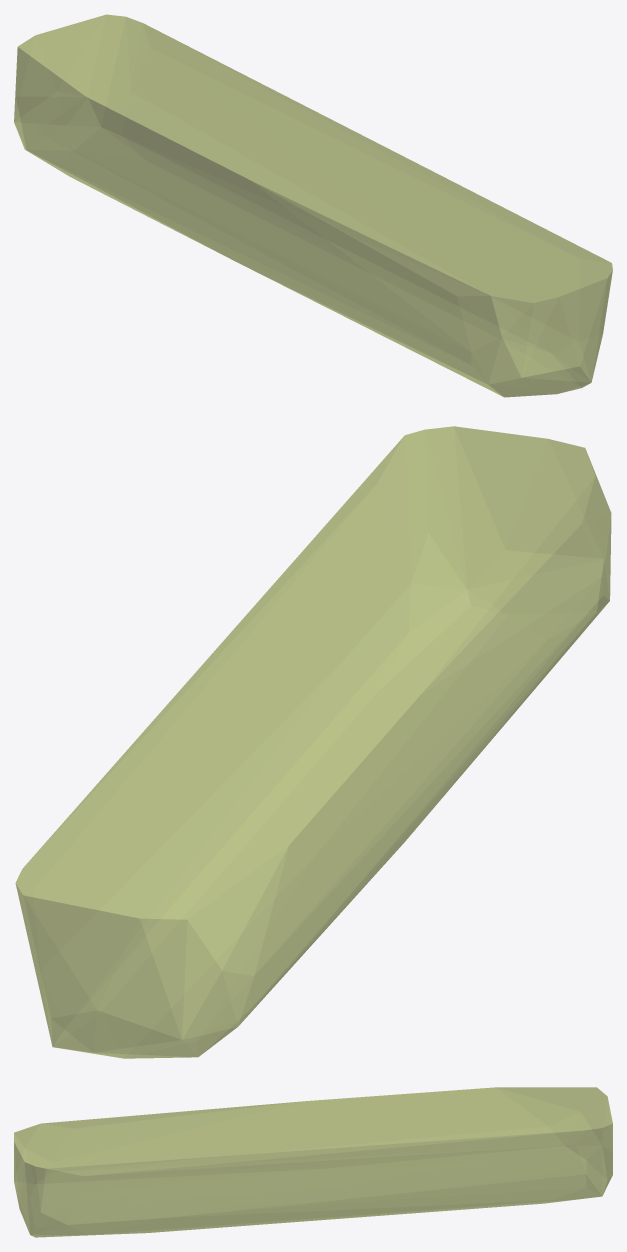
3 renders of one model, top to bottom at view 1: azimuth 30°, elevation 25°; view 2: azimuth 150°, elevation 25°; view 3: azimuth 270°, elevation 25°, orthographic. The views are drawn at different scales.
Visible parts, largest first — view 1: Shape_IndexedFaceSet.002_Shape_IndexedFaceSet.1478; view 2: Shape_IndexedFaceSet.002_Shape_IndexedFaceSet.1478; view 3: Shape_IndexedFaceSet.002_Shape_IndexedFaceSet.1478.
Boxes of the visible parts, left/top/right/bottom form: Shape_IndexedFaceSet.002_Shape_IndexedFaceSet.1478: left=14, top=14, right=612, bottom=397; Shape_IndexedFaceSet.002_Shape_IndexedFaceSet.1478: left=15, top=426, right=611, bottom=1058; Shape_IndexedFaceSet.002_Shape_IndexedFaceSet.1478: left=14, top=1087, right=612, bottom=1237.
Bounding box in the file's own units: 0.0194 × 0.0087 × 0.0573.
